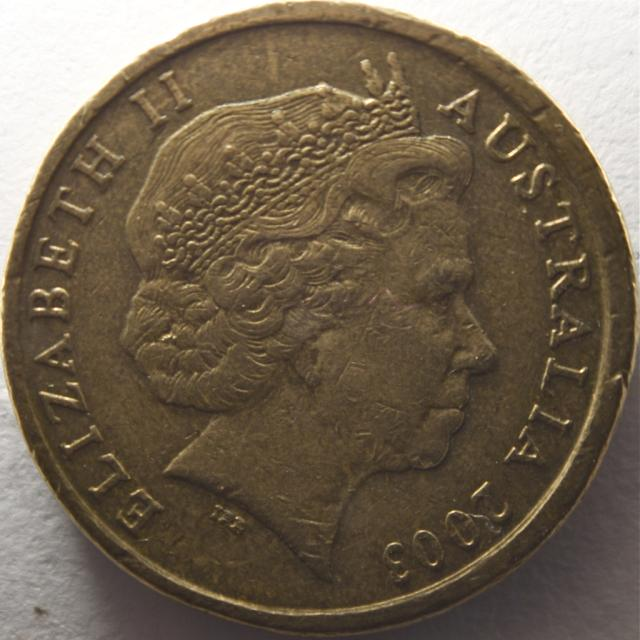Coin: (0, 6, 637, 640)
